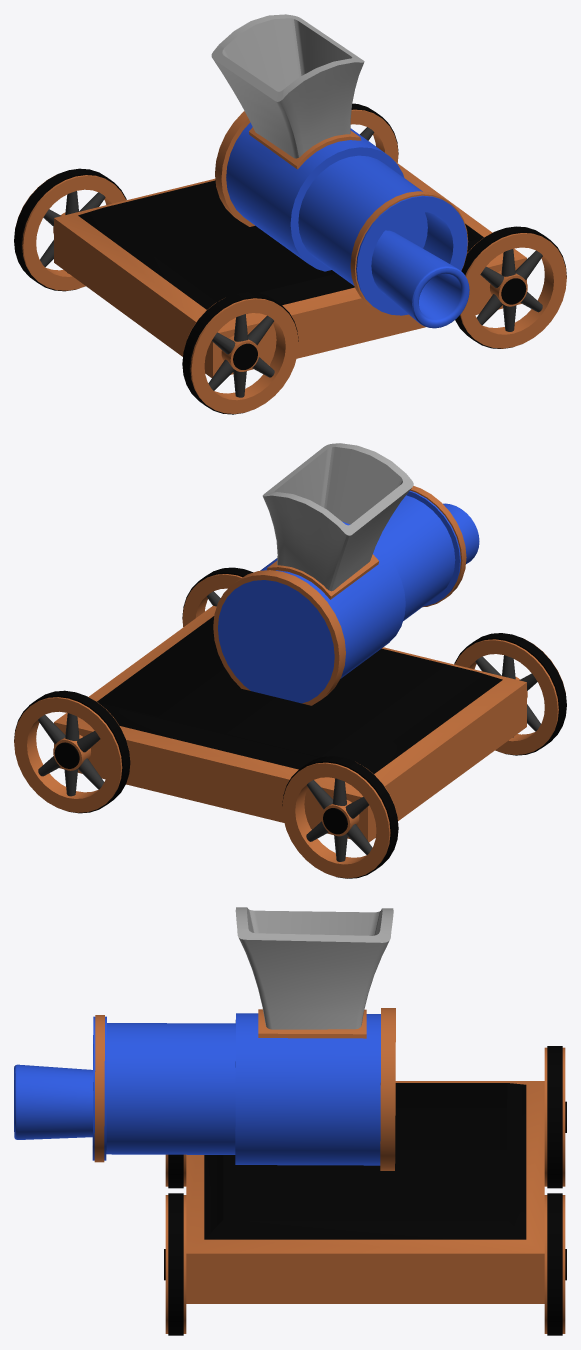
File: Rapid_Fire_Cannonfbx.fbx
3 renders of one model, top to bottom at view 1: azimuth 30°, elevation 25°; view 2: azimuth 150°, elevation 25°; view 3: azimuth 270°, elevation 25°, orthographic. The views are drawn at different scales.
Parts seen in each view (by area): view 1: Plane.001, Cylinder.001; view 2: Plane.001, Cylinder.001; view 3: Plane.001, Cylinder.001.
Boxes of the visible parts, bbox=[...] form: Plane.001: bbox=[14, 103, 566, 414]; Cylinder.001: bbox=[211, 14, 469, 328]; Plane.001: bbox=[14, 567, 566, 878]; Cylinder.001: bbox=[213, 443, 479, 705]; Plane.001: bbox=[164, 1046, 566, 1335]; Cylinder.001: bbox=[14, 907, 395, 1170].
Size of the model in its own units: 2001 by 1494 by 2254.
